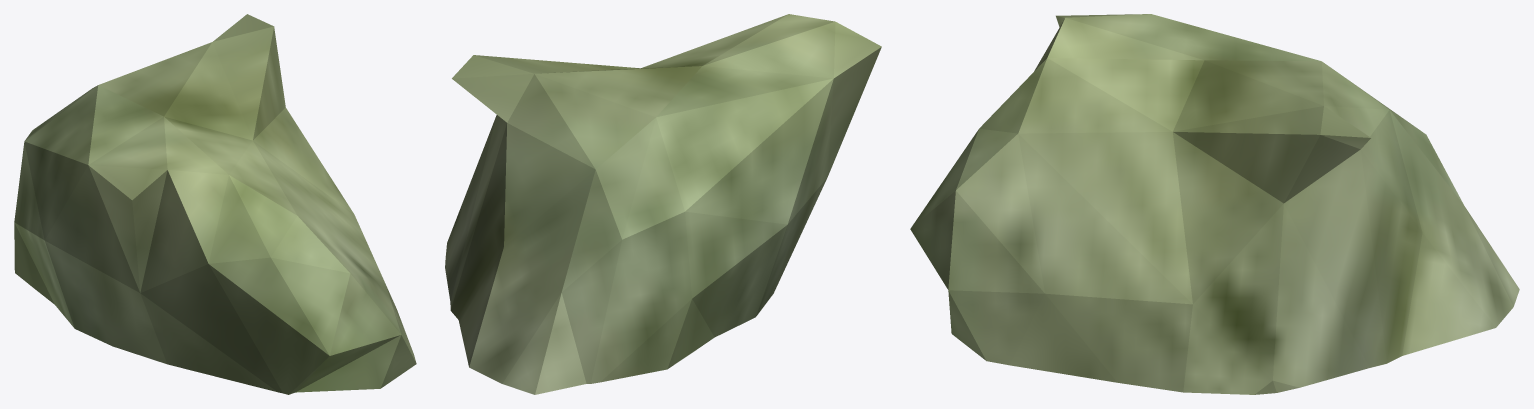
3 renders of one model, left to right at view 1: azimuth 30°, elevation 25°; view 2: azimuth 150°, elevation 25°; view 3: azimuth 270°, elevation 25°, orthographic. The views are drawn at different scales.
Bounding box in the file's own units: 0.6587 × 0.4356 × 1.03.
1 material, 1 textured.
